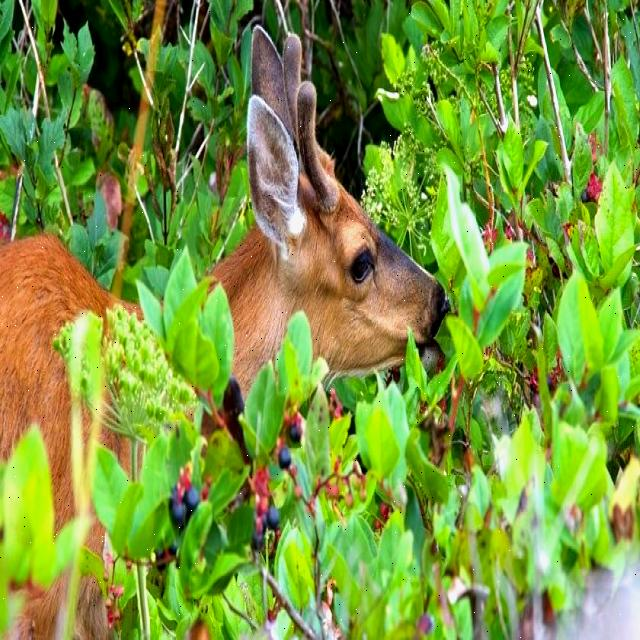deer: (217, 33, 450, 361)
